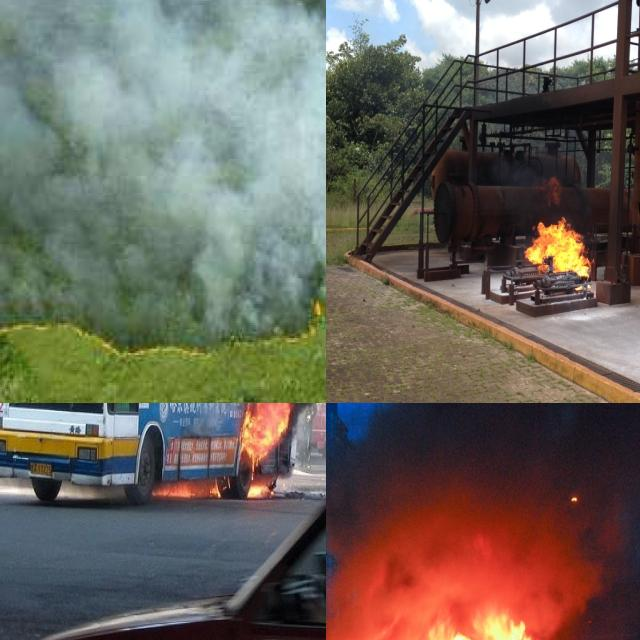fire: (234, 403, 303, 500), (528, 217, 593, 294)
smoke: (0, 0, 326, 331), (326, 403, 640, 640)
